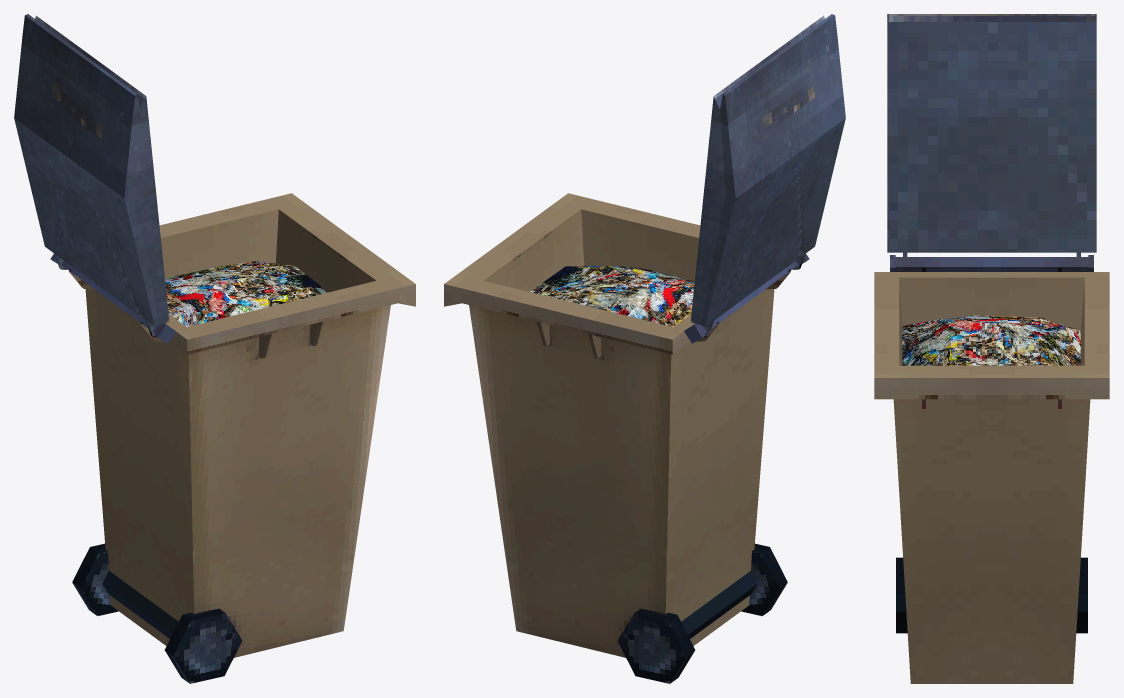
The model's file is trash_can_full.glb.
The picture shows the model from 3 angles, left to right: view 1: azimuth 30°, elevation 25°; view 2: azimuth 150°, elevation 25°; view 3: azimuth 270°, elevation 25°; orthographic projection. The views are drawn at different scales.
Visible parts, largest first — view 1: trash_can_full; view 2: trash_can_full; view 3: trash_can_full.
Boxes of the visible parts, box(x1,y1,x2,y2) form: trash_can_full: box(14, 14, 415, 683); trash_can_full: box(444, 14, 845, 683); trash_can_full: box(874, 14, 1109, 683).
Size of the model in its own units: 1.03 by 2.1 by 0.7794.
2 materials, 2 textured.
